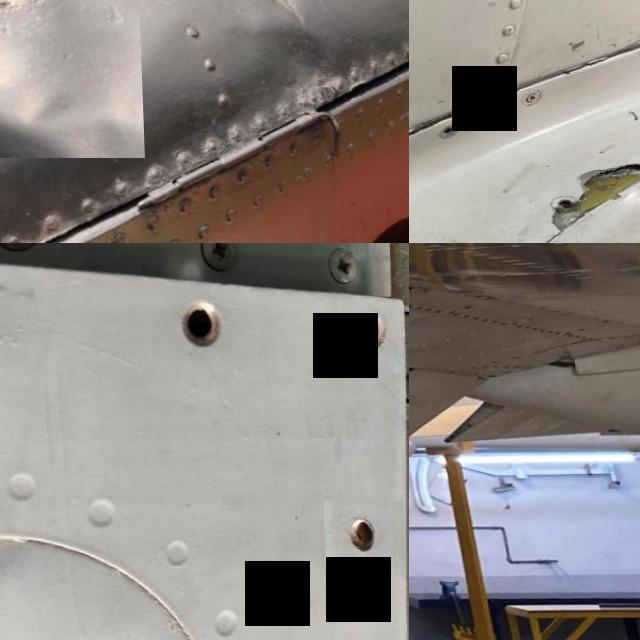Crack: (543, 160, 640, 238)
Dent: (0, 0, 141, 158), (207, 0, 324, 50)
Missing_Fastener: (154, 290, 252, 386), (320, 501, 402, 576), (325, 300, 407, 368), (0, 250, 32, 358), (435, 124, 458, 140)
